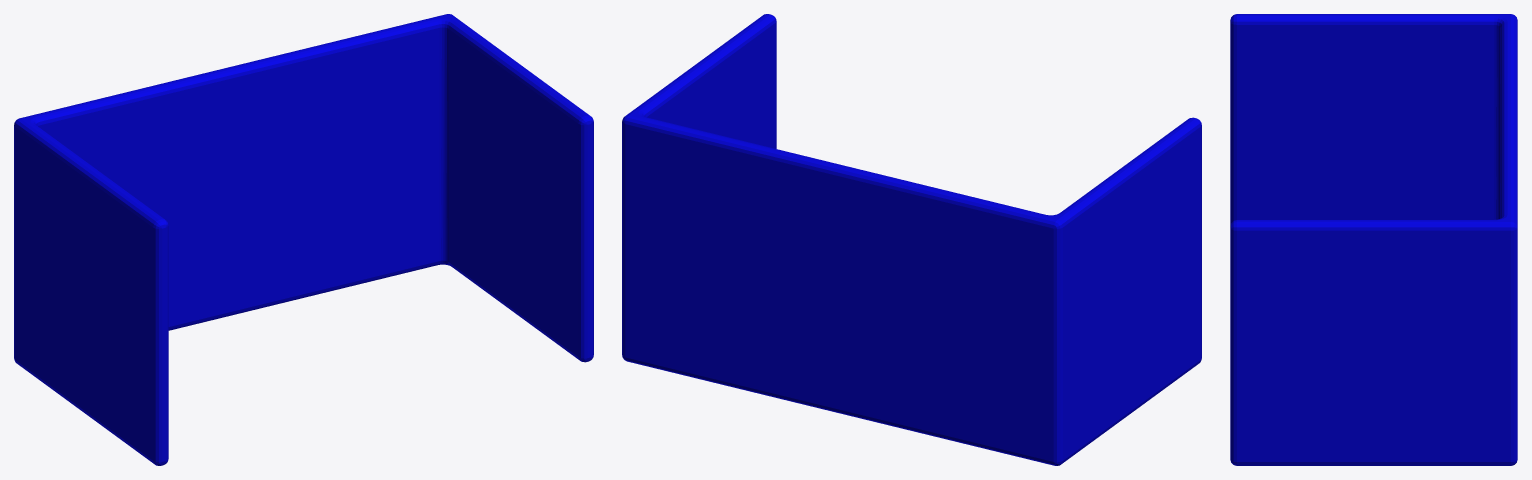
Rendered from push_blue.dae.
3 renders of one model, left to right at view 1: azimuth 30°, elevation 25°; view 2: azimuth 150°, elevation 25°; view 3: azimuth 270°, elevation 25°, orthographic.
Visible parts, largest first — view 1: push; view 2: push; view 3: push.
Boxes of the visible parts, x1,y1,x2,y2 form: push: (14, 14, 593, 465); push: (622, 14, 1201, 465); push: (1230, 14, 1517, 465).
Bounding box in the file's own units: 0.15 × 0.0856 × 0.08.
